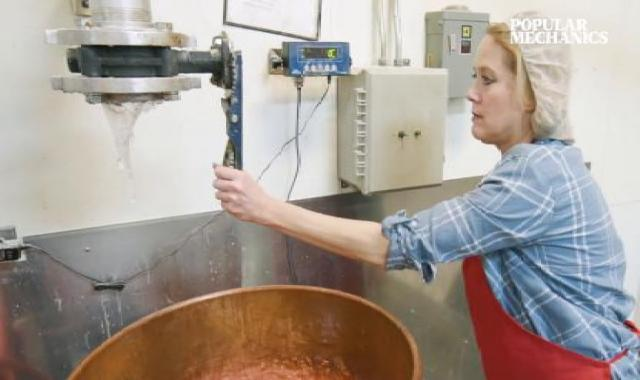hairnet: (485, 12, 587, 139)
